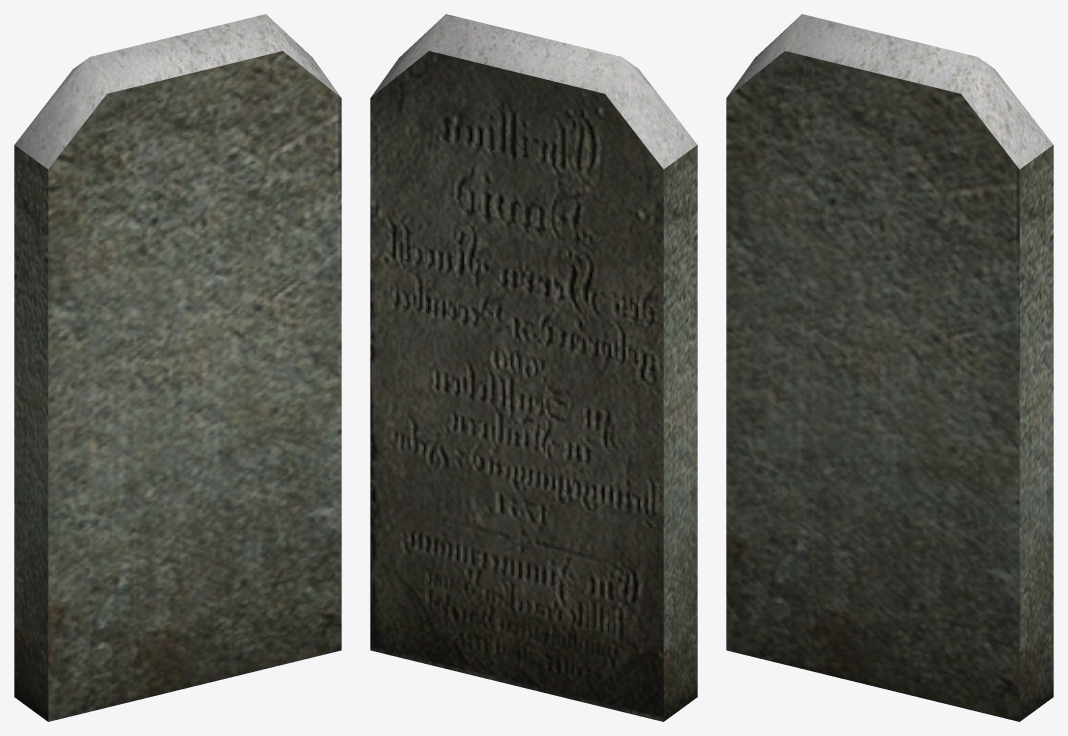
File: tombstone_sm_02_snow.fbx
The picture shows the model from 3 angles, left to right: view 1: azimuth 30°, elevation 25°; view 2: azimuth 150°, elevation 25°; view 3: azimuth 330°, elevation 25°; orthographic projection.
Visible parts, largest first — view 1: mesh_0, mesh_1; view 2: mesh_0, mesh_1; view 3: mesh_0, mesh_1.
Part boxes in pixels (x1=…): mesh_0: x1=14, y1=51, x2=341, y2=721; mesh_1: x1=14, y1=14, x2=340, y2=169; mesh_0: x1=370, y1=51, x2=697, y2=721; mesh_1: x1=371, y1=14, x2=697, y2=169; mesh_0: x1=726, y1=51, x2=1053, y2=721; mesh_1: x1=727, y1=14, x2=1053, y2=169.
Size of the model in its own units: 50 by 104 by 10.
Materials: 2 (2 with a texture image).
